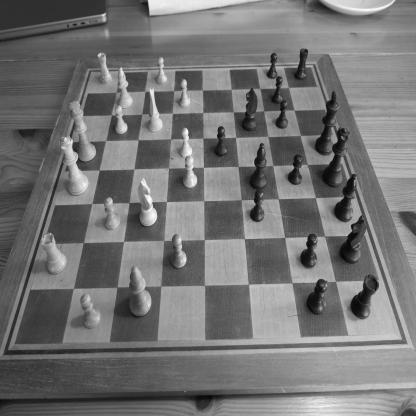black-bishop: (334, 173, 357, 223), (250, 143, 268, 190)
black-king: (315, 90, 340, 156)
black-knight: (340, 214, 367, 264), (242, 86, 258, 132)
black-pawn: (306, 278, 328, 315), (300, 233, 318, 268), (249, 188, 265, 223), (288, 154, 303, 186), (214, 126, 228, 158), (271, 76, 284, 104), (276, 99, 288, 129), (267, 52, 278, 80)
black-queen: (322, 127, 351, 188)
black-rook: (350, 274, 379, 320), (294, 47, 309, 80)
white-bishop: (128, 265, 152, 318), (117, 66, 133, 109)
white-king: (68, 100, 97, 162)
white-knight: (137, 177, 158, 227), (147, 87, 163, 133)
white-pawn: (80, 293, 102, 329), (103, 196, 121, 231), (171, 233, 188, 269), (182, 154, 198, 188), (179, 128, 193, 158), (177, 78, 191, 108), (114, 105, 128, 135), (156, 56, 168, 85)
white-queen: (58, 135, 89, 196)
white-rook: (40, 232, 67, 276), (96, 55, 112, 89)
